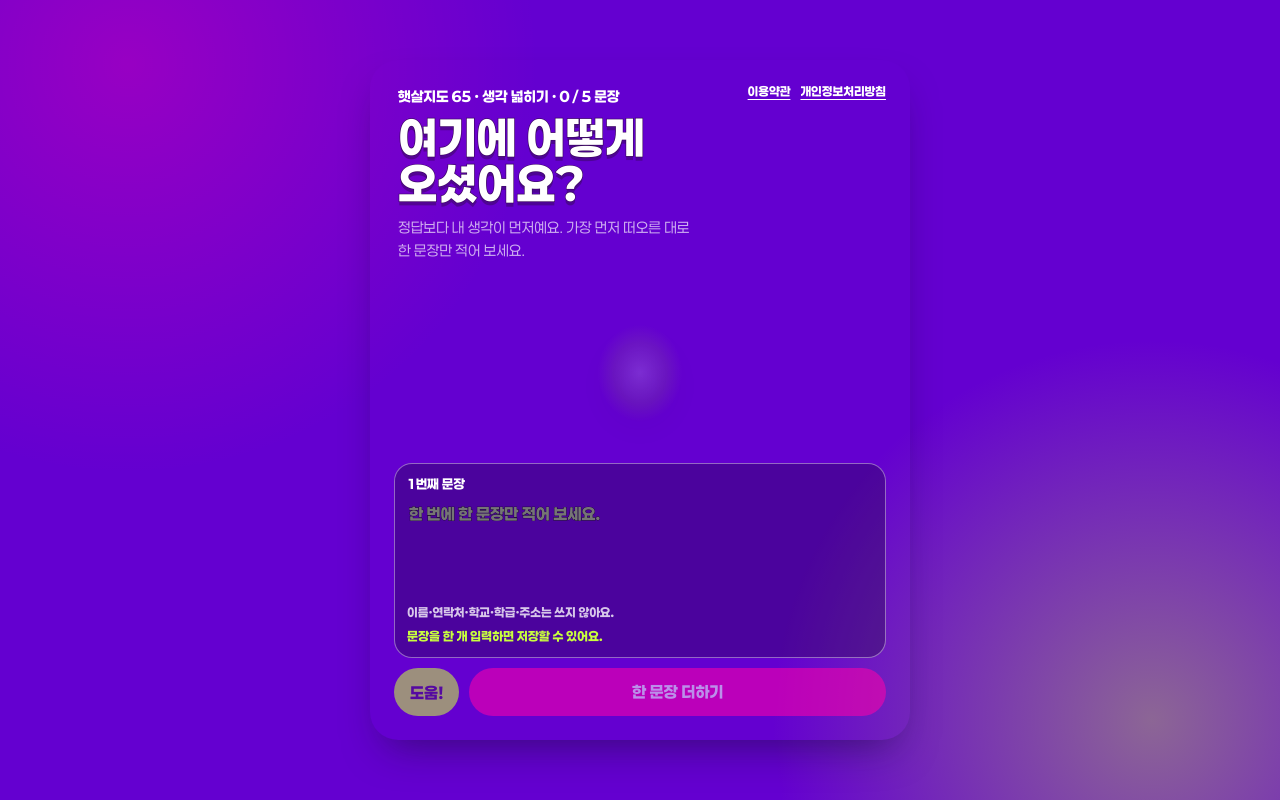
Test: 학생 활동 시작 화면 › 입력칸 가까이 개인정보 안내를 보여 주고 해당 문장은 저장하지 않는다
Expected: the text "이름·연락처·학교·학급·주소는 쓰지 않아요." is shown, [407,605,614,619]
Type "010-1234-5678" into the text box labelled "1번째 문장" at (640, 548), box [407,500,873,596]
Wait 400 ms
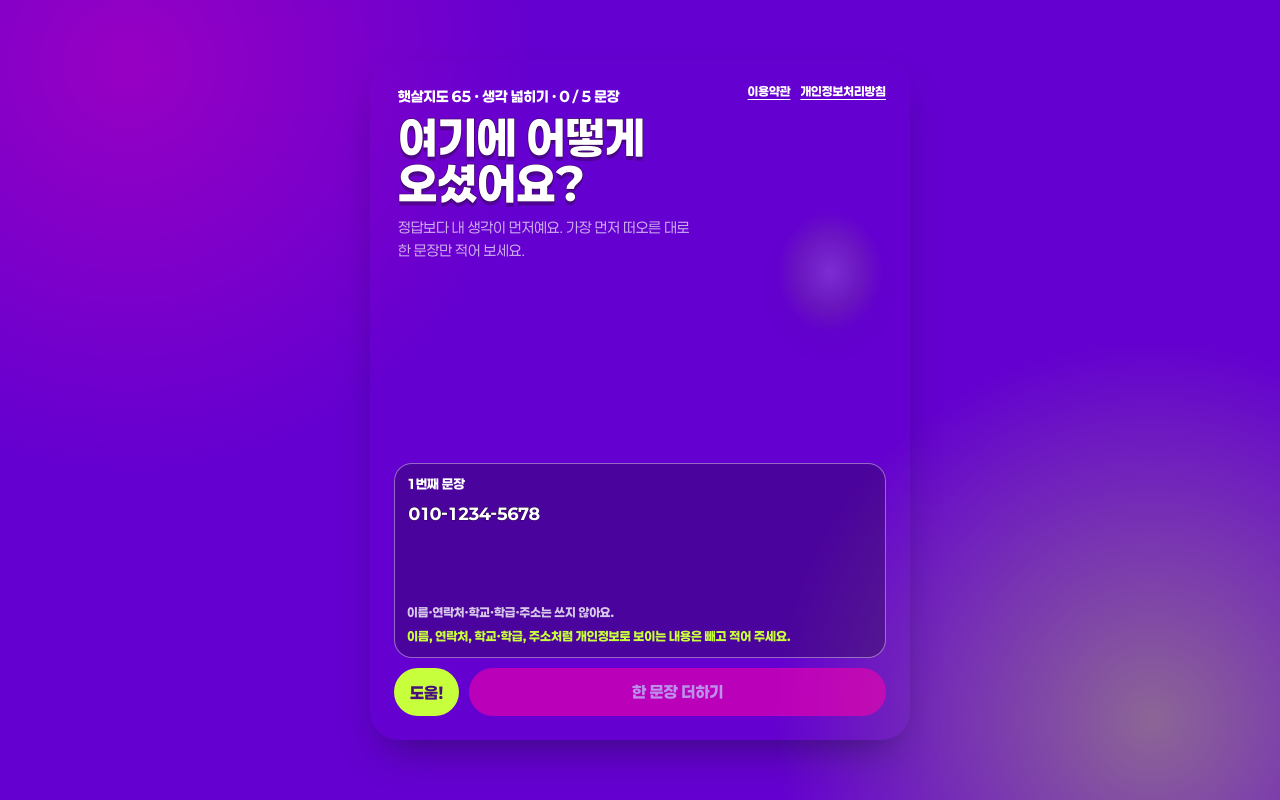
Expected: the button "한 문장 더하기" is disabled, [469,668,886,716]
Result: the text "이름, 연락처, 학교·학급, 주소처럼 개인정보로 보이는 내용은 빼고 적어 주세요." is shown at [407,629,790,643]
